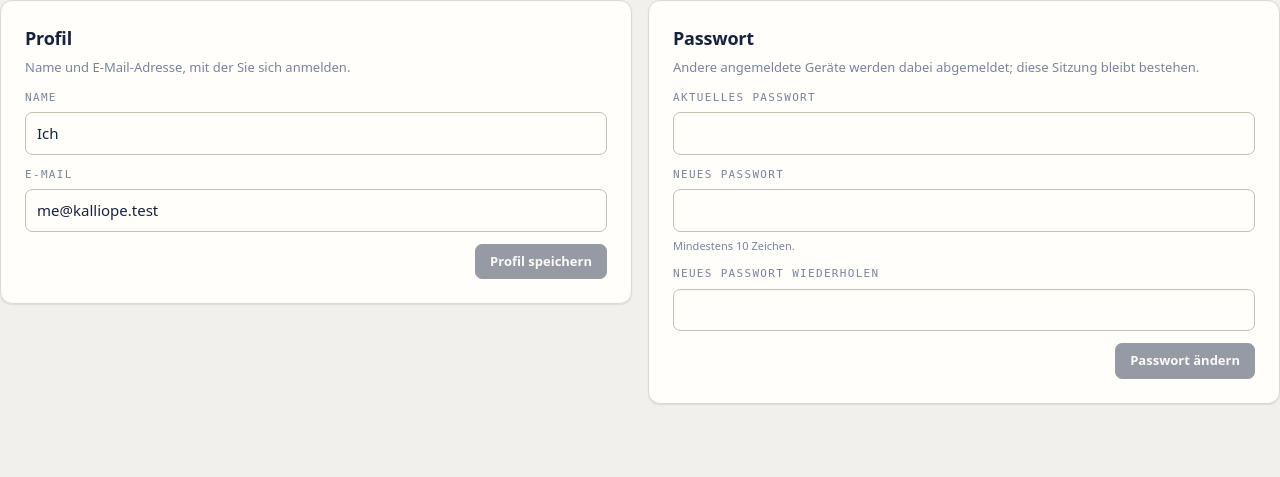
Test case: profile › reports a wrong current password and clears the fields on success
Type "old-password-1" into the password field labelled "Aktuelles Passwort" at (964, 133), box [673,112,1255,154]
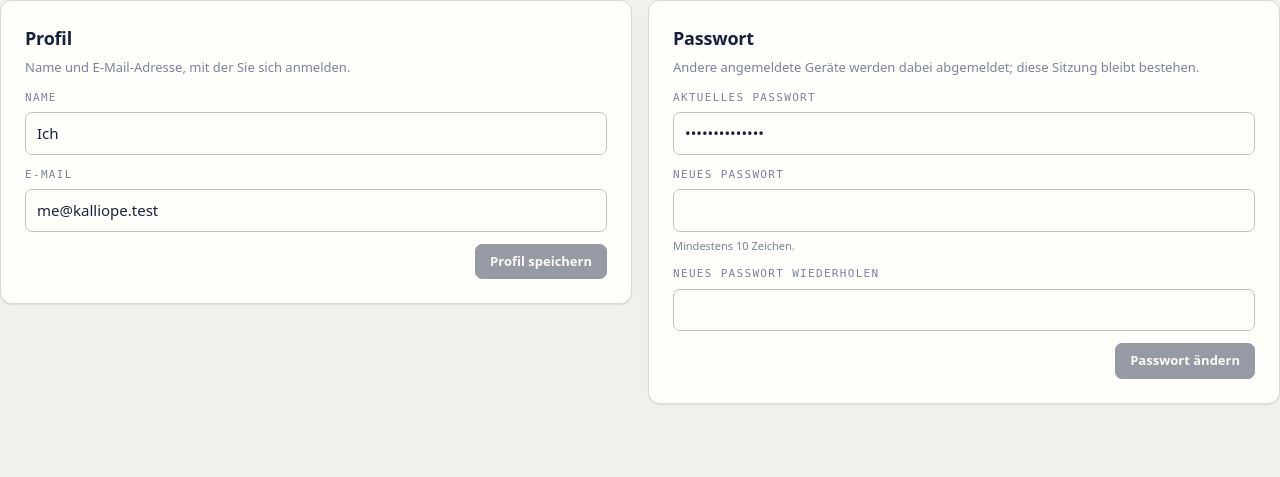
Type "new-password-1" into the password field labelled "Neues Passwort" at (964, 210), box [673,189,1255,232]
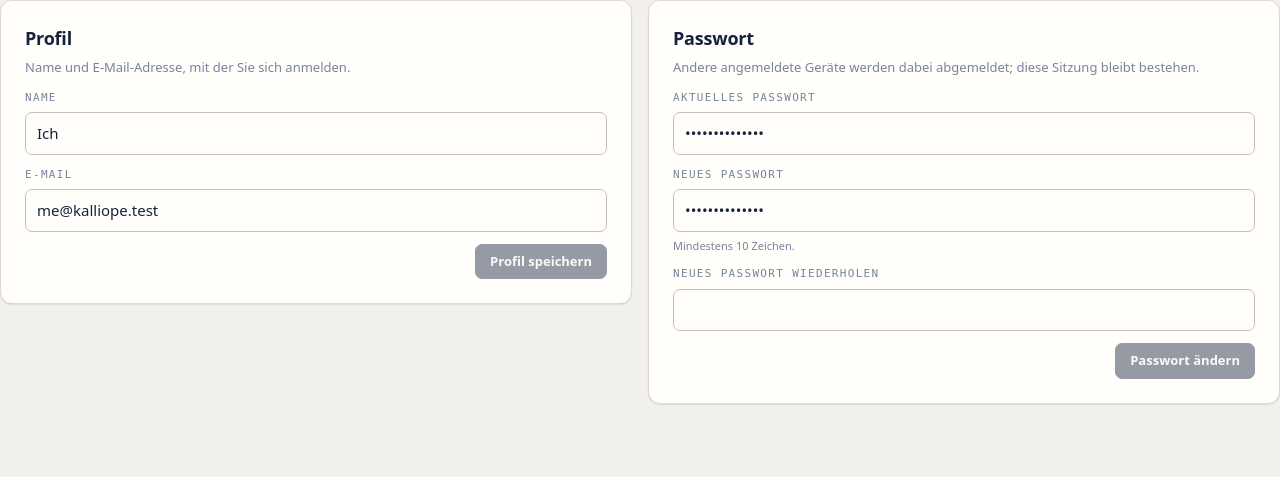
Type "new-password-1" into the password field labelled "Neues Passwort wiederholen" at (964, 310), box [673,288,1255,331]
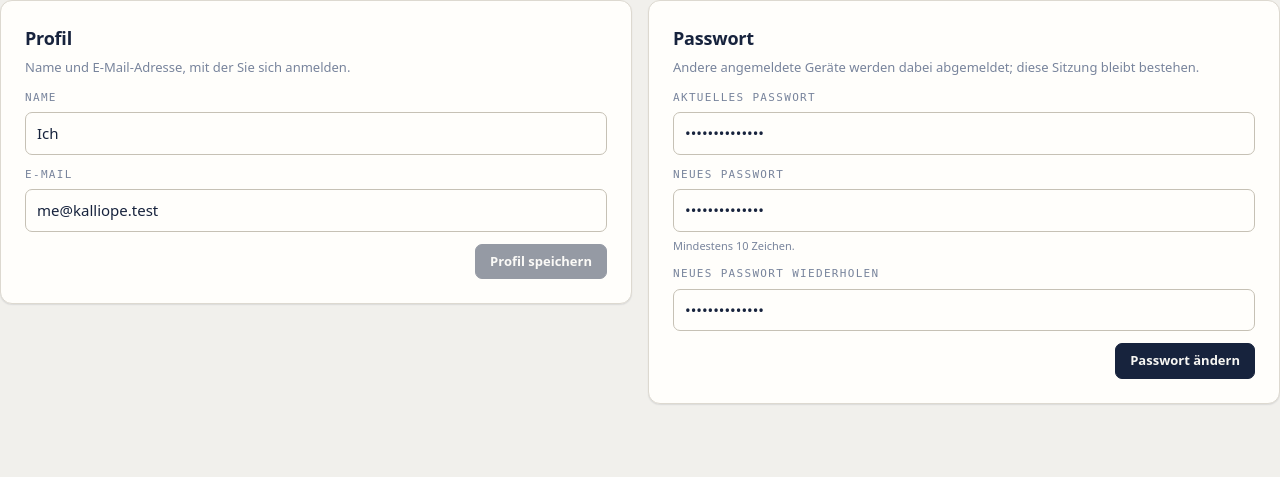
Submit the form that starts with "Passwort", box [648,0,1279,404]
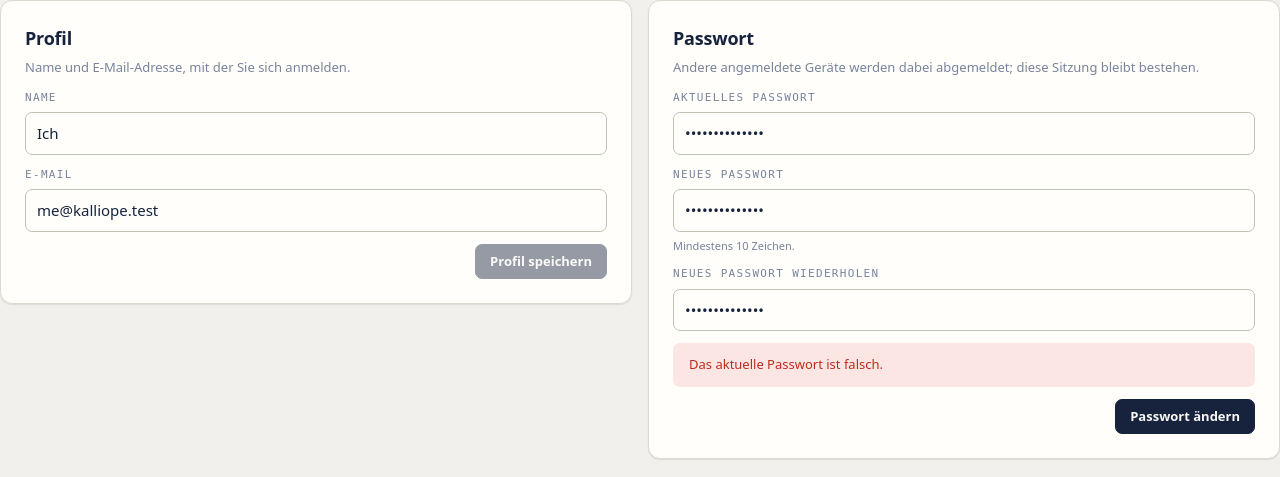
Now the message "Das aktuelle Passwort ist falsch." is shown, box [673,343,1255,386]
Submit the form that starts with "Passwort", box [648,0,1279,459]
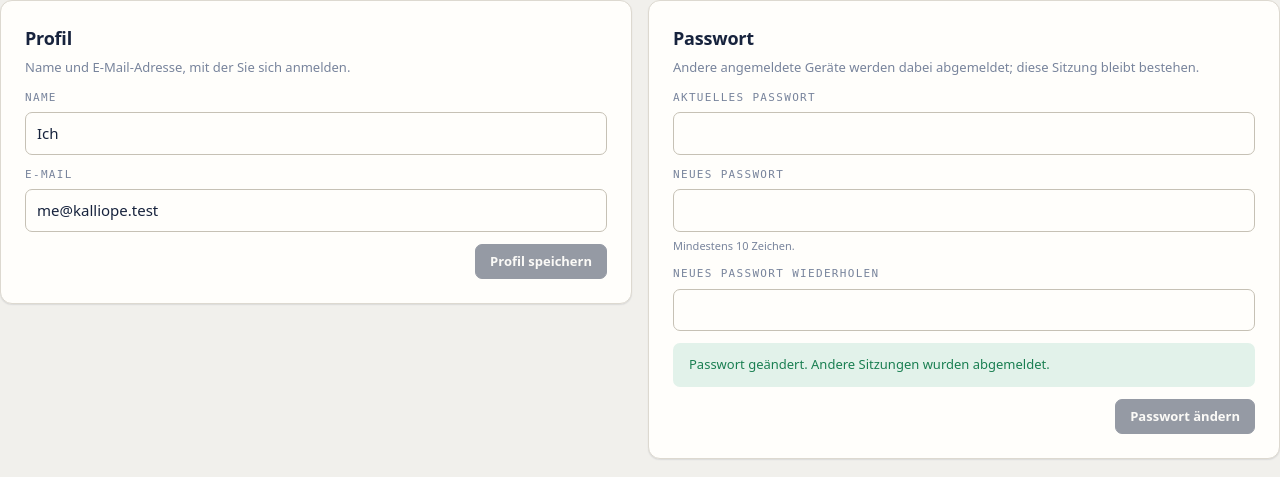
Now the password field labelled "Neues Passwort" is empty, box [673,189,1255,232]
Now the message "Passwort geändert. Andere Sitzungen wurden abgemeldet." is shown, box [673,343,1255,386]
